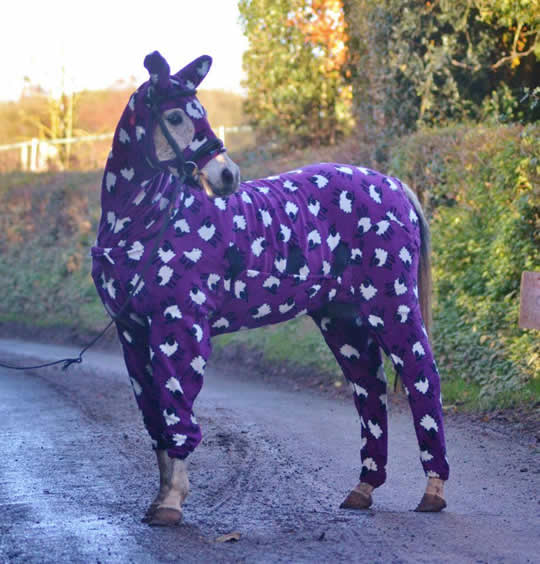Horse: (74, 34, 467, 538)
